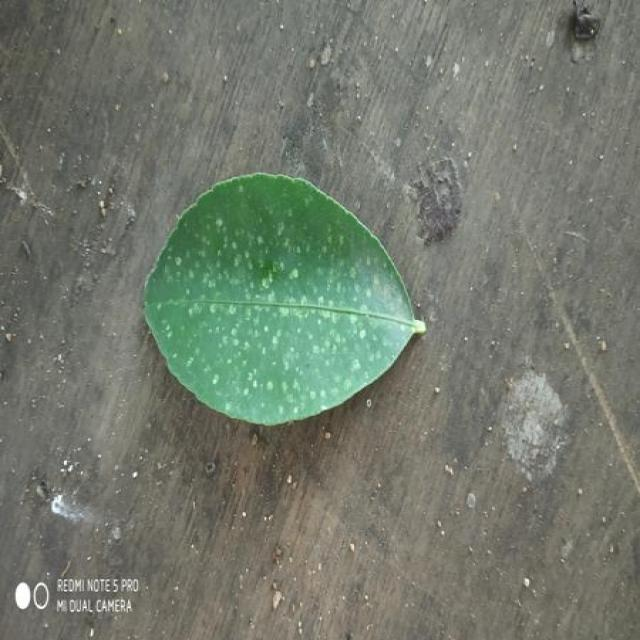Citrus greasy spot: (143, 174, 425, 424)
